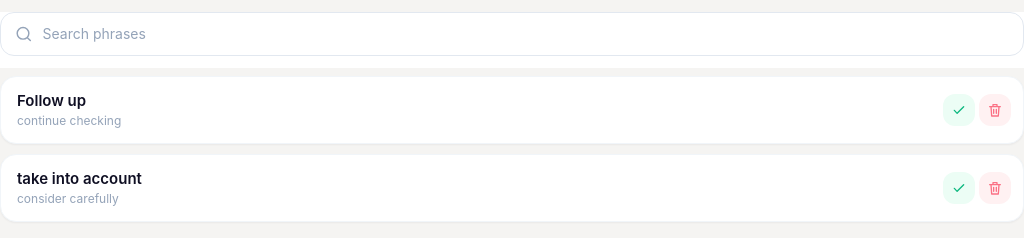
Test: VocabularyTabPage › filters by term or definition and clears the query with focus restored
Type "FOLLOW" into the search field labelled "Search phrases" at [530, 34], box [42,13,1017,55]
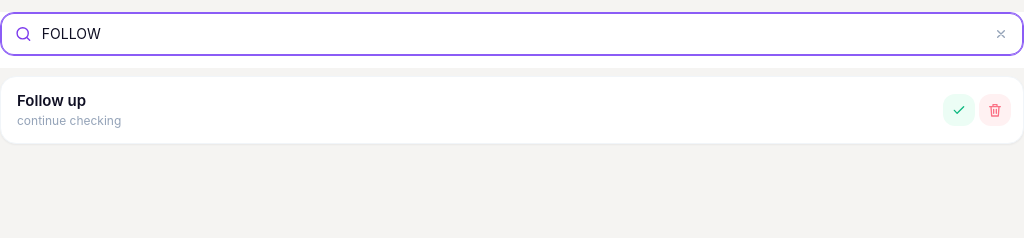
Expected: the heading "Follow up" is shown, [17,91,86,110]
Expected: the heading "take into account" is gone
Click the button named "Clear search" at [1001, 34], box [985,18,1017,50]
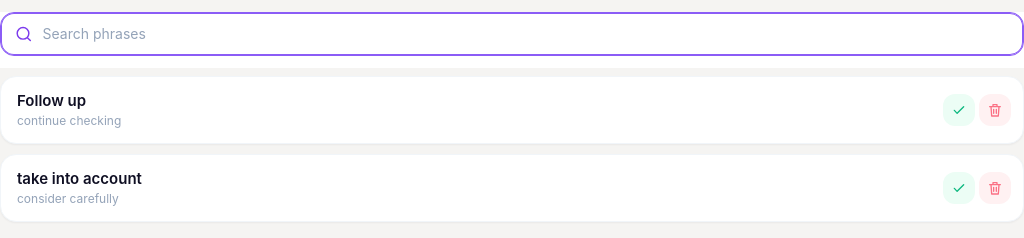
Expected: the search field labelled "Search phrases" is empty
Type "missing phrase" into the search field labelled "Search phrases" at [530, 34], box [42,13,1017,55]
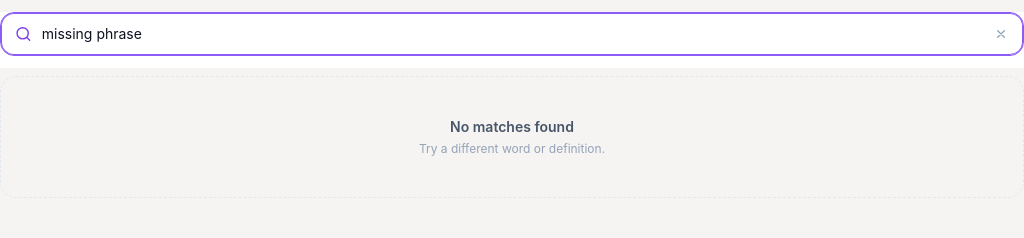
Expected: the text "No matches found" is shown, [450,118,574,135]
Expected: the text "Try a different word or definition." is shown, [419,141,605,156]
